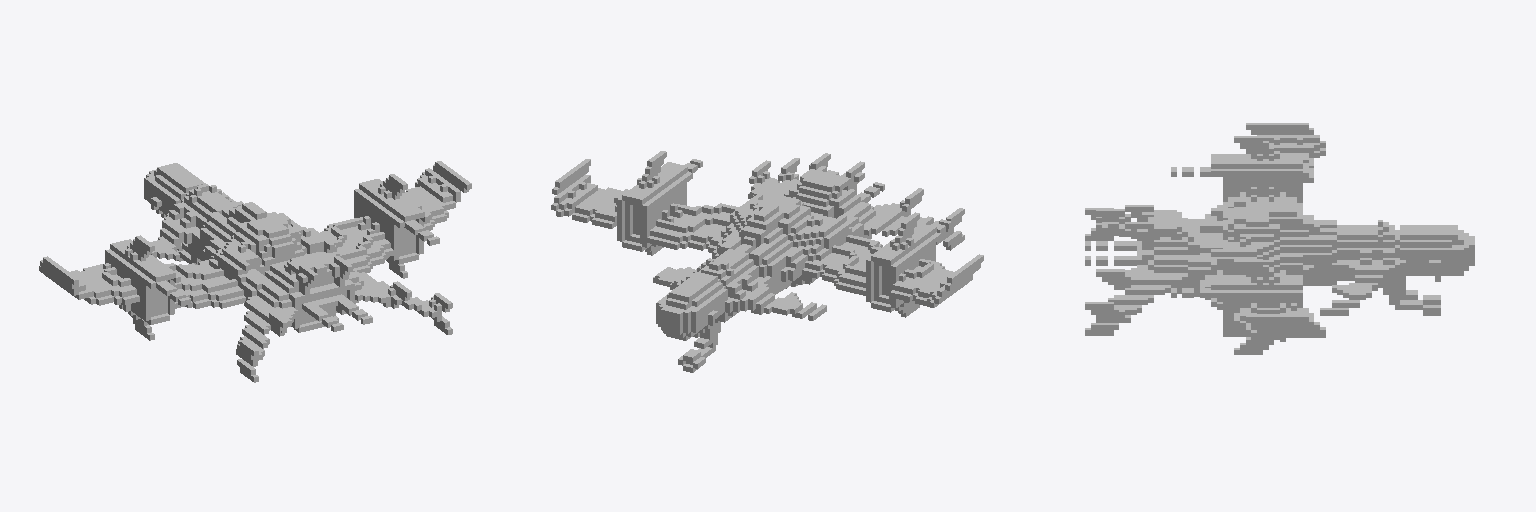
Rendered from RedFighter.obj.
3 renders of one model, left to right at view 1: azimuth 30°, elevation 25°; view 2: azimuth 150°, elevation 25°; view 3: azimuth 270°, elevation 25°, orthographic.
Parts seen in each view (by area): view 1: Untitled; view 2: Untitled; view 3: Untitled.
Part boxes in pixels (bbox=[...]): Untitled: bbox=[39, 161, 471, 382]; Untitled: bbox=[551, 151, 983, 372]; Untitled: bbox=[1085, 123, 1474, 354].
Size of the model in its own units: 8 by 2.2 by 6.8.